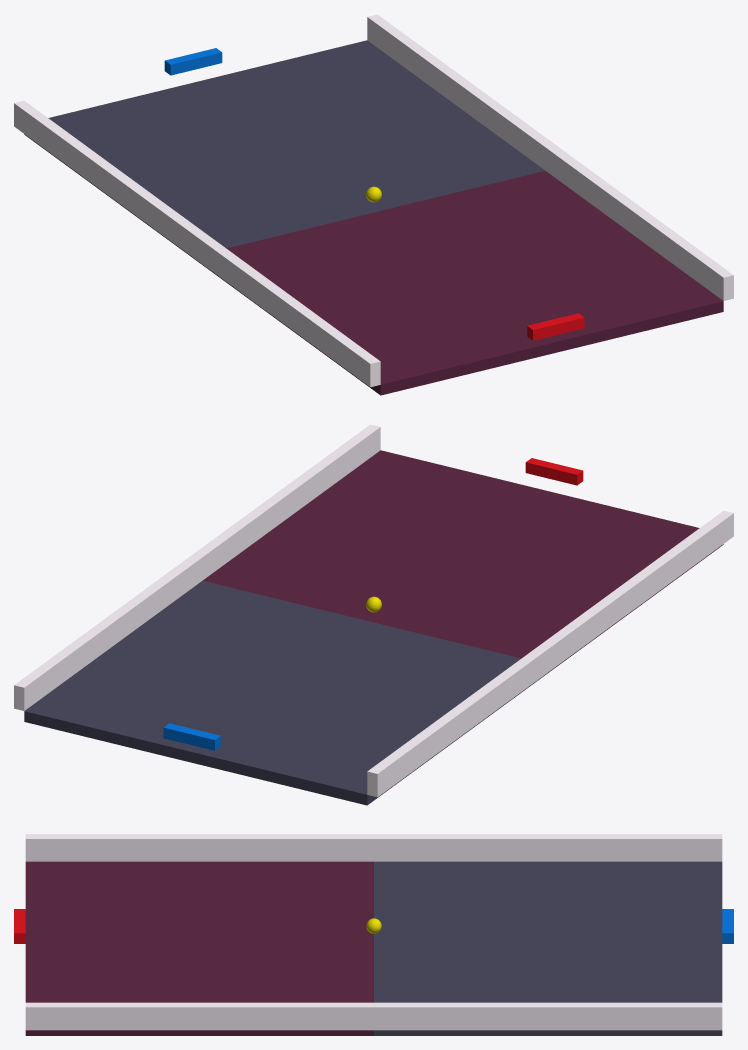
Rendered from pong.glb.
The picture shows the model from 3 angles, top to bottom: view 1: azimuth 30°, elevation 25°; view 2: azimuth 150°, elevation 25°; view 3: azimuth 270°, elevation 25°; orthographic projection. The views are drawn at different scales.
Visible parts, largest first — view 1: court2, court1, boundary1.001, boundary1, paddle2, paddle1; view 2: court1, court2, boundary1.001, boundary1, paddle1, paddle2; view 3: court2, court1, boundary1, boundary1.001, paddle2, paddle1.
Boxes of the visible parts, bbox=[...] form: court2: bbox=[203, 170, 723, 395]; court1: bbox=[24, 40, 544, 264]; boundary1.001: bbox=[14, 100, 380, 387]; boundary1: bbox=[367, 14, 733, 300]; paddle2: bbox=[164, 48, 222, 75]; paddle1: bbox=[527, 313, 584, 340]; court1: bbox=[24, 580, 544, 805]; court2: bbox=[203, 450, 723, 674]; boundary1.001: bbox=[367, 510, 733, 797]; boundary1: bbox=[14, 424, 380, 710]; paddle1: bbox=[525, 458, 583, 485]; paddle2: bbox=[163, 723, 220, 750]; court2: bbox=[25, 861, 373, 1035]; court1: bbox=[374, 861, 722, 1035]; boundary1: bbox=[25, 1002, 722, 1030]; boundary1.001: bbox=[25, 834, 722, 861]; paddle2: bbox=[722, 909, 733, 943]; paddle1: bbox=[14, 909, 25, 943].
Bounding box in the file's own units: 10.6 × 1 × 18.6.
